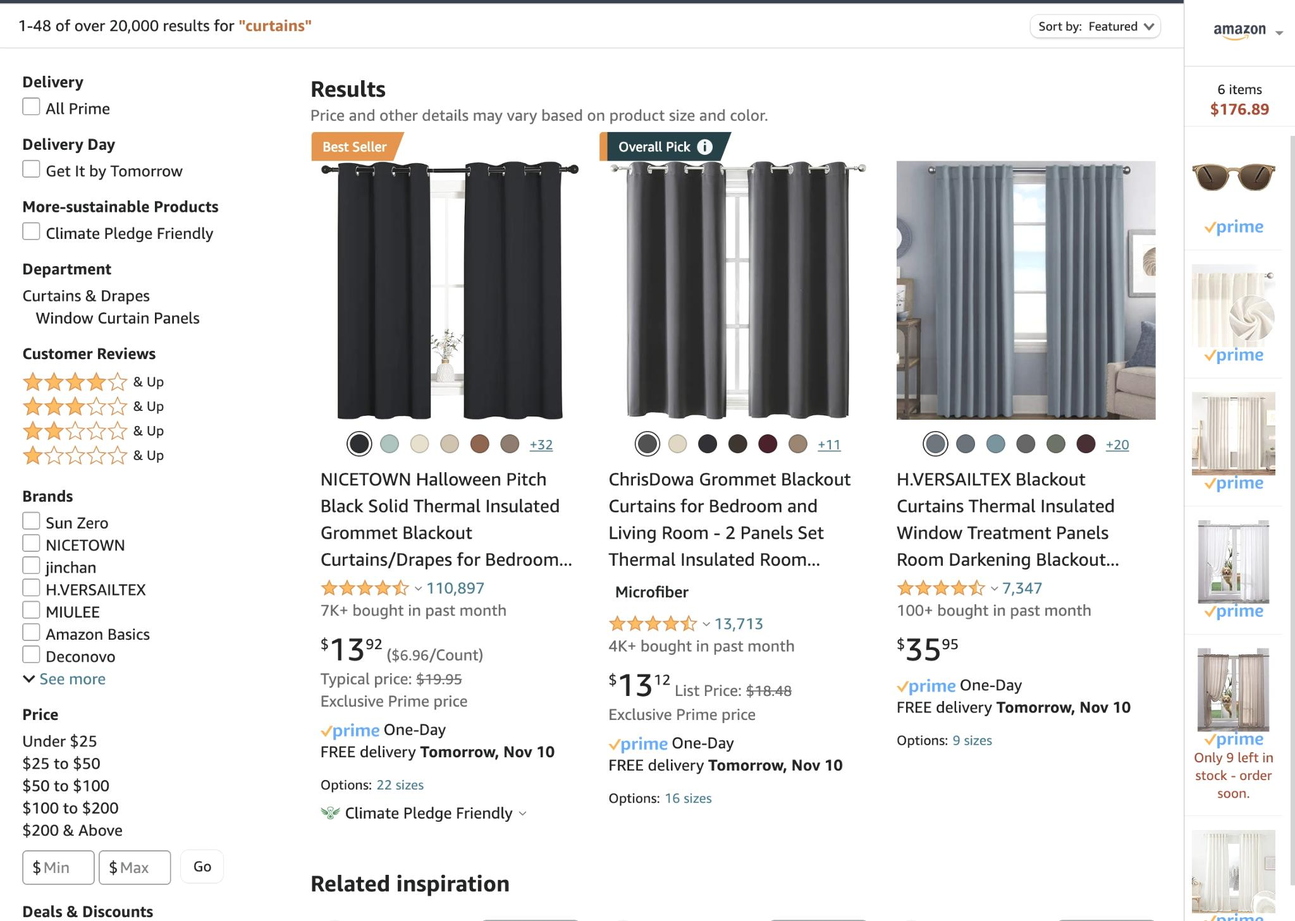webelement: (310, 71, 1166, 921), (21, 71, 301, 921), (896, 159, 1155, 418), (320, 159, 577, 418), (609, 159, 865, 418), (0, 3, 1182, 47), (896, 472, 1136, 674), (310, 71, 1166, 125), (21, 513, 287, 686), (21, 731, 287, 883), (320, 472, 569, 621), (607, 472, 856, 621), (21, 370, 287, 468), (305, 907, 1295, 921), (310, 907, 1166, 921), (21, 842, 287, 883), (1184, 0, 1294, 97), (21, 285, 287, 325), (599, 131, 876, 165), (310, 105, 768, 124), (320, 766, 579, 796), (608, 780, 867, 810), (896, 722, 1155, 752), (311, 131, 588, 159), (1191, 391, 1275, 475), (1191, 647, 1275, 731), (1191, 135, 1275, 218), (1191, 263, 1275, 346), (1191, 519, 1275, 602), (1191, 829, 1275, 912), (320, 644, 482, 686), (21, 370, 287, 394), (21, 394, 287, 418), (21, 419, 287, 443), (21, 444, 287, 468), (181, 8, 365, 39), (310, 869, 509, 896), (875, 8, 1036, 39), (174, 52, 338, 82), (780, 52, 940, 82), (21, 98, 287, 116), (21, 223, 287, 241), (21, 557, 287, 575), (21, 624, 287, 642), (21, 646, 287, 664), (21, 753, 287, 771), (21, 820, 287, 838), (21, 161, 287, 178), (21, 513, 287, 530), (21, 535, 287, 552), (21, 580, 287, 597), (21, 602, 287, 619), (21, 669, 287, 686), (21, 731, 287, 748), (21, 776, 287, 793), (21, 798, 287, 815), (608, 754, 842, 773), (733, 8, 874, 39), (597, 8, 733, 39), (320, 741, 554, 759), (896, 697, 1130, 715), (1193, 749, 1272, 800), (0, 792, 179, 814), (310, 907, 589, 921), (598, 907, 877, 921), (886, 907, 1165, 921), (17, 16, 232, 34), (366, 8, 489, 39), (21, 196, 218, 215), (339, 52, 463, 82), (896, 600, 1091, 618), (280, 95, 394, 125), (668, 52, 780, 82), (320, 600, 506, 618), (608, 636, 794, 654), (489, 8, 596, 39), (171, 95, 281, 125), (608, 680, 791, 698), (76, 8, 179, 39), (512, 95, 617, 125), (563, 52, 667, 82), (1041, 52, 1143, 82), (940, 52, 1041, 82), (345, 804, 513, 822), (464, 52, 563, 82), (34, 308, 198, 326), (76, 52, 173, 82), (320, 691, 467, 710), (76, 95, 169, 125), (608, 704, 754, 723), (607, 576, 694, 607), (617, 131, 713, 159), (21, 368, 127, 392), (21, 393, 127, 417), (21, 417, 127, 441), (21, 441, 127, 465), (21, 849, 94, 883), (98, 849, 170, 883), (21, 285, 148, 304), (21, 344, 155, 362), (1029, 15, 1160, 33), (21, 902, 152, 920), (310, 73, 385, 100), (184, 60, 328, 74), (45, 624, 148, 643), (45, 579, 145, 598), (21, 820, 121, 839), (608, 754, 706, 773), (395, 95, 457, 125), (385, 644, 482, 663), (320, 668, 416, 687), (320, 741, 419, 759), (896, 697, 995, 715), (21, 798, 117, 816), (1174, 907, 1295, 921), (21, 134, 114, 152), (457, 95, 512, 125), (21, 259, 110, 277), (21, 668, 105, 687), (320, 580, 426, 595), (607, 615, 713, 630), (896, 580, 1002, 595), (21, 776, 108, 794), (1191, 134, 1275, 152), (1191, 390, 1275, 408), (1191, 518, 1275, 536), (1191, 646, 1275, 664), (1191, 828, 1275, 846), (21, 753, 99, 772), (1028, 13, 1089, 37), (1191, 262, 1275, 279), (45, 535, 124, 553), (617, 665, 653, 703), (21, 731, 96, 749), (328, 630, 364, 667), (904, 630, 940, 667), (573, 58, 643, 77), (45, 646, 115, 665), (238, 16, 311, 34), (180, 849, 221, 881), (673, 680, 744, 698), (45, 98, 109, 117), (671, 732, 733, 751), (896, 644, 958, 663), (45, 513, 108, 531), (383, 719, 445, 737), (959, 674, 1021, 692), (21, 72, 82, 90), (618, 137, 690, 152), (1209, 101, 1268, 118), (320, 723, 379, 740), (607, 736, 666, 753), (1204, 346, 1262, 363), (45, 602, 99, 620), (45, 557, 96, 576), (322, 137, 386, 152), (896, 679, 955, 695), (1204, 219, 1262, 235), (1204, 475, 1262, 491), (1204, 603, 1262, 619), (1204, 731, 1262, 747), (21, 486, 72, 504), (425, 580, 483, 595), (376, 777, 423, 795), (664, 790, 711, 808), (744, 682, 790, 700), (1214, 25, 1265, 40), (415, 671, 460, 688), (714, 615, 762, 630), (952, 732, 992, 750), (21, 704, 58, 723), (1088, 18, 1137, 32), (390, 646, 428, 664), (1216, 80, 1260, 95), (21, 850, 40, 883), (98, 850, 117, 883), (1038, 18, 1081, 32), (184, 61, 224, 76), (1001, 580, 1040, 595), (1203, 913, 1262, 921), (132, 372, 163, 387), (132, 397, 163, 412), (132, 422, 163, 437), (132, 446, 163, 461), (320, 802, 340, 822), (528, 436, 552, 451), (1104, 436, 1128, 451), (817, 436, 840, 451), (21, 96, 39, 114), (21, 158, 39, 176), (21, 510, 39, 528), (21, 533, 39, 551), (21, 555, 39, 573), (21, 577, 39, 595), (21, 599, 39, 617), (21, 622, 39, 640), (21, 644, 39, 662), (21, 221, 39, 238), (652, 665, 660, 703), (364, 630, 372, 667), (365, 635, 381, 653), (941, 635, 957, 653), (652, 671, 668, 688), (941, 630, 948, 667), (477, 919, 581, 921), (766, 919, 870, 921), (1053, 919, 1157, 921), (320, 635, 329, 653), (896, 635, 905, 653), (608, 671, 617, 688), (233, 16, 237, 34)
